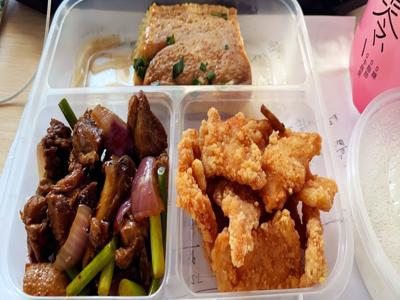df: (135, 3, 262, 85)
j2: (183, 106, 336, 294)
